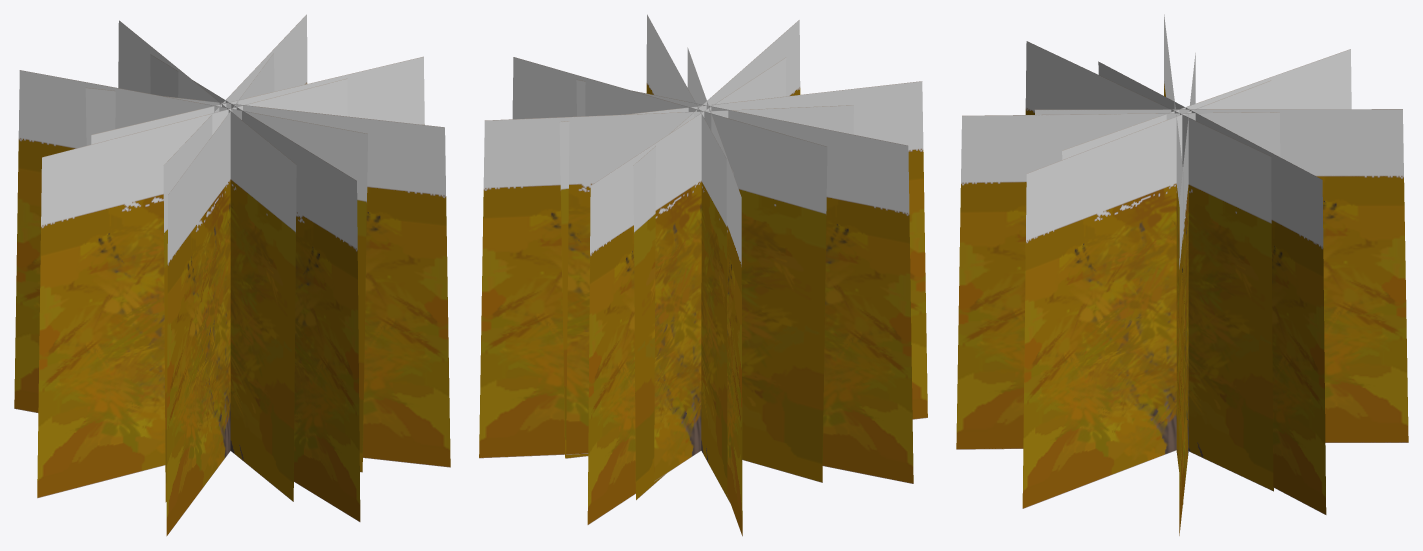
File: Superiorshrub_environment.fbx
The picture shows the model from 3 angles, left to right: view 1: azimuth 30°, elevation 25°; view 2: azimuth 150°, elevation 25°; view 3: azimuth 270°, elevation 25°; orthographic projection.
Visible parts, largest first — view 1: pPlane26; view 2: pPlane26; view 3: pPlane26.
Boxes of the visible parts, x1,y1,x2,y2 form: pPlane26: (14, 14, 450, 536); pPlane26: (479, 14, 927, 536); pPlane26: (956, 14, 1408, 535).
Bounding box in the file's own units: 5.43 × 4.48 × 5.41.
